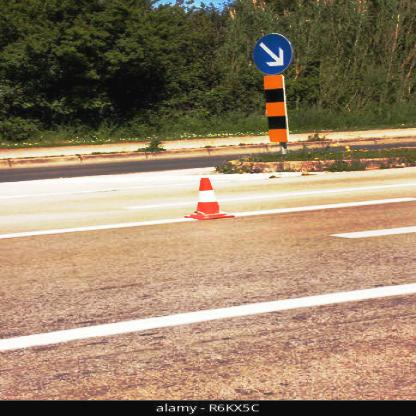Keep right: (248, 32, 295, 76)
